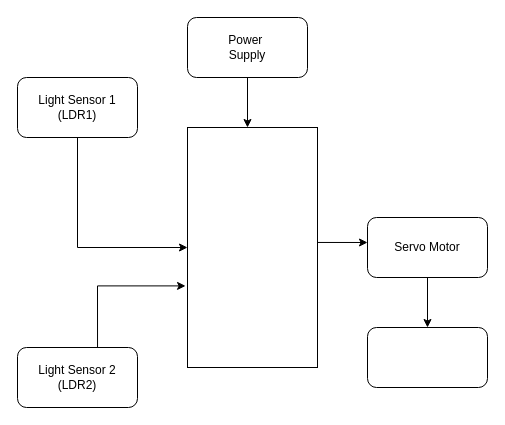
This 505x425 diagram has some shape labels left out. The shapes that lost their labels are listed below. From the top down, each one's centre as x and y in pixels, then its label:
(252,247): MICRO CONTROLLER
(427,357): Solar Panel
